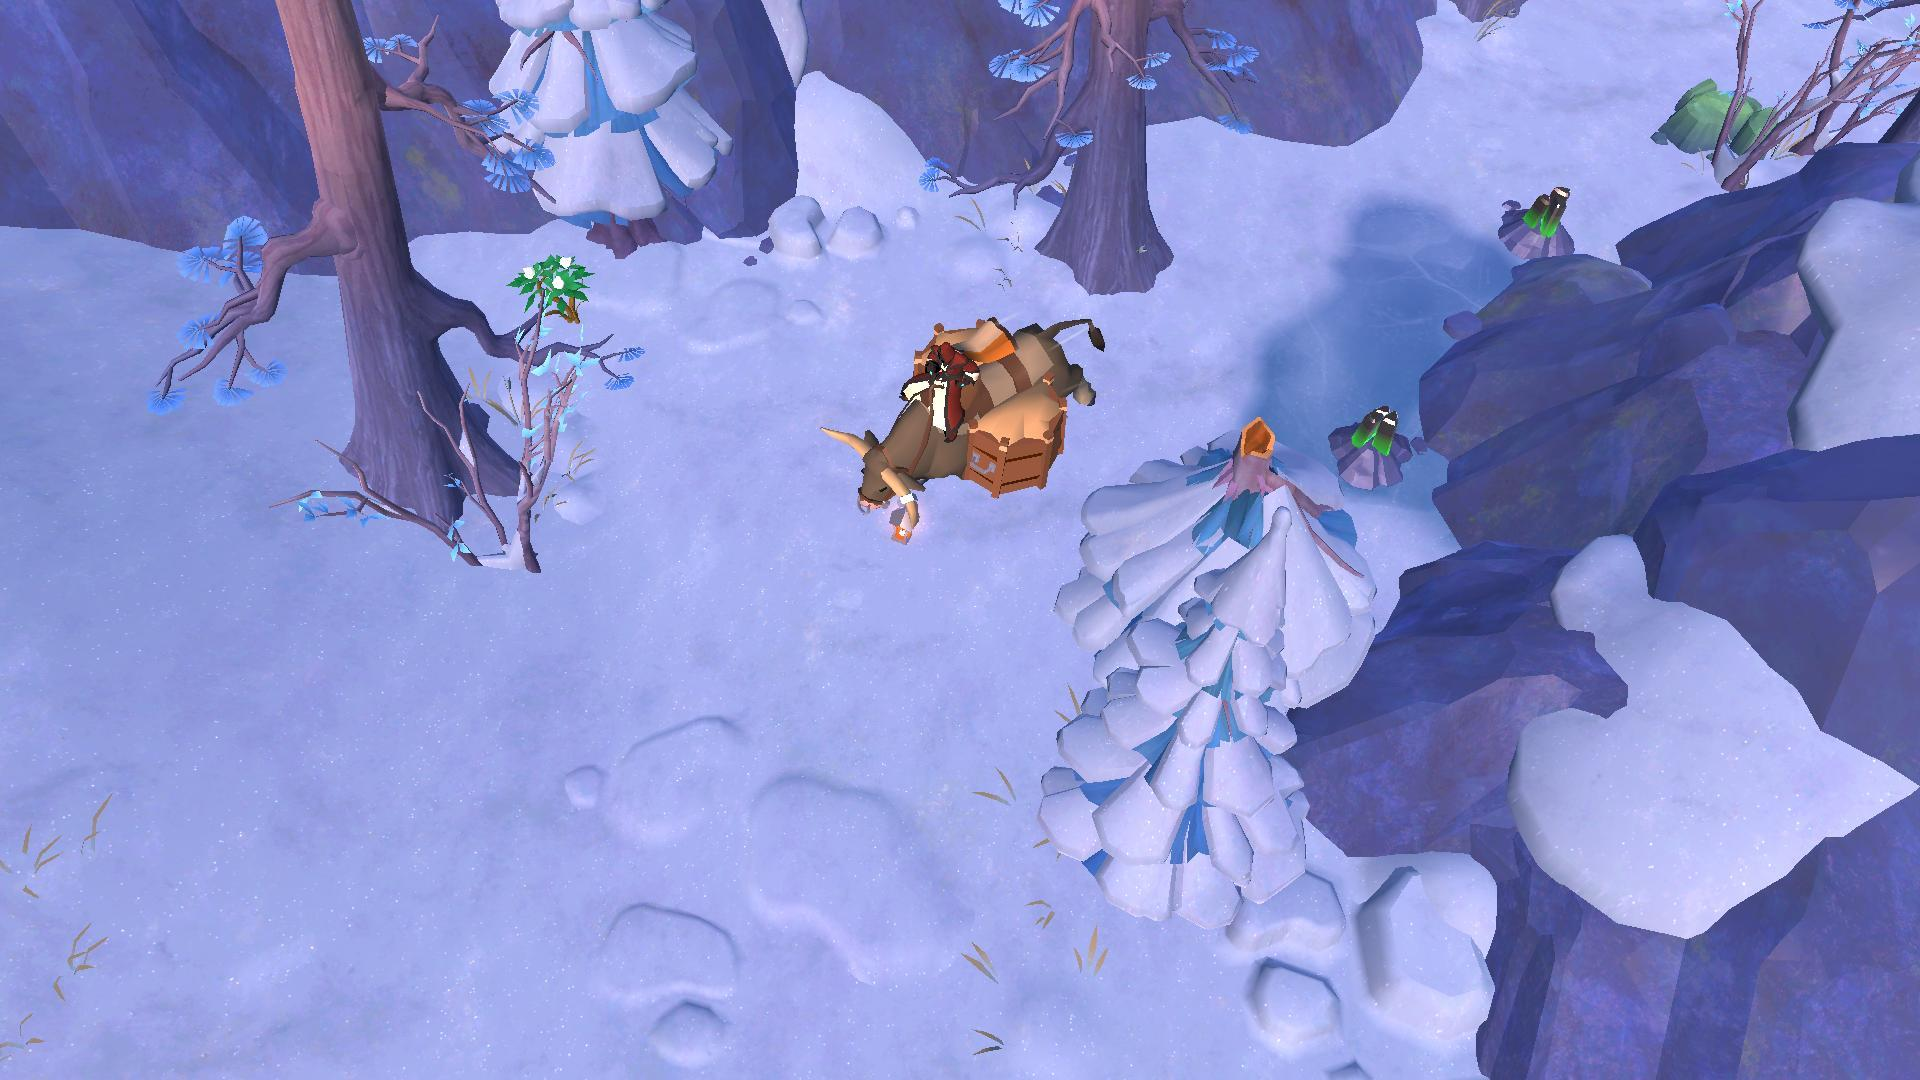fiber_t3: (504, 244, 593, 316)
ore_t3: (1518, 179, 1572, 243), (1349, 396, 1400, 460)
rock_t3: (1651, 69, 1789, 169)
